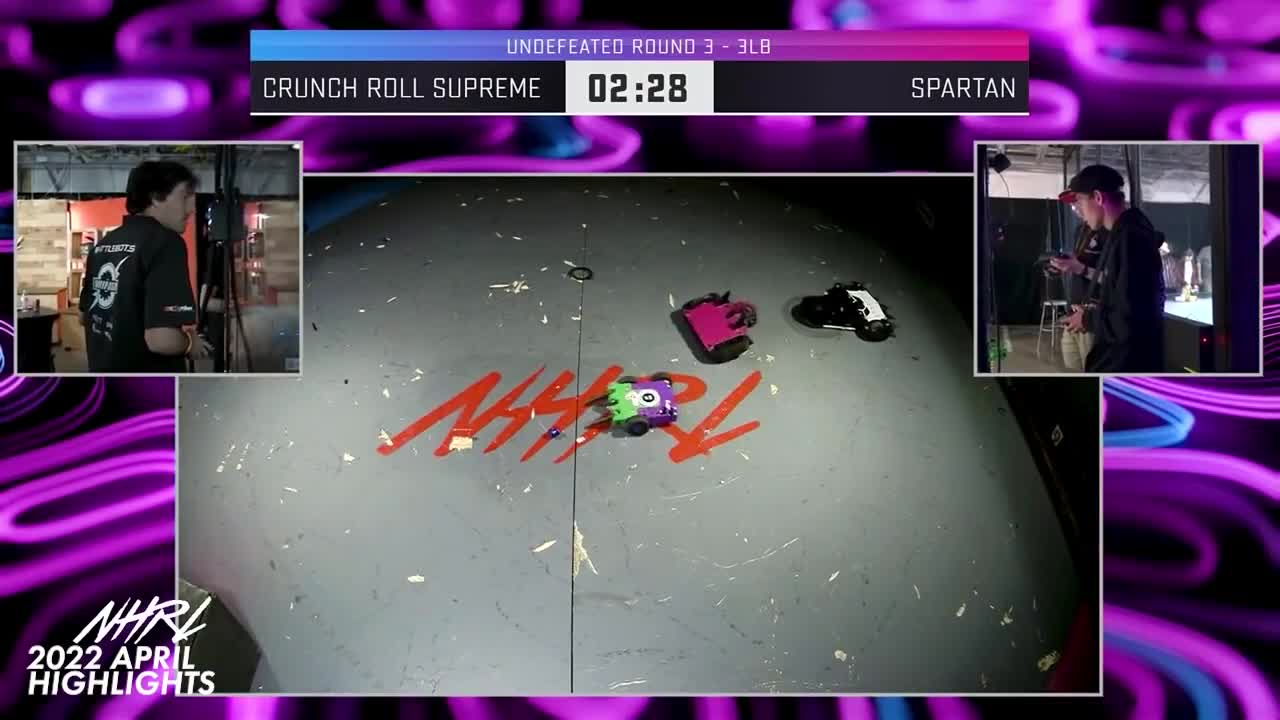combatbot: (784, 281, 898, 345), (586, 366, 684, 440), (672, 291, 759, 368)
debris: (561, 263, 596, 283)
